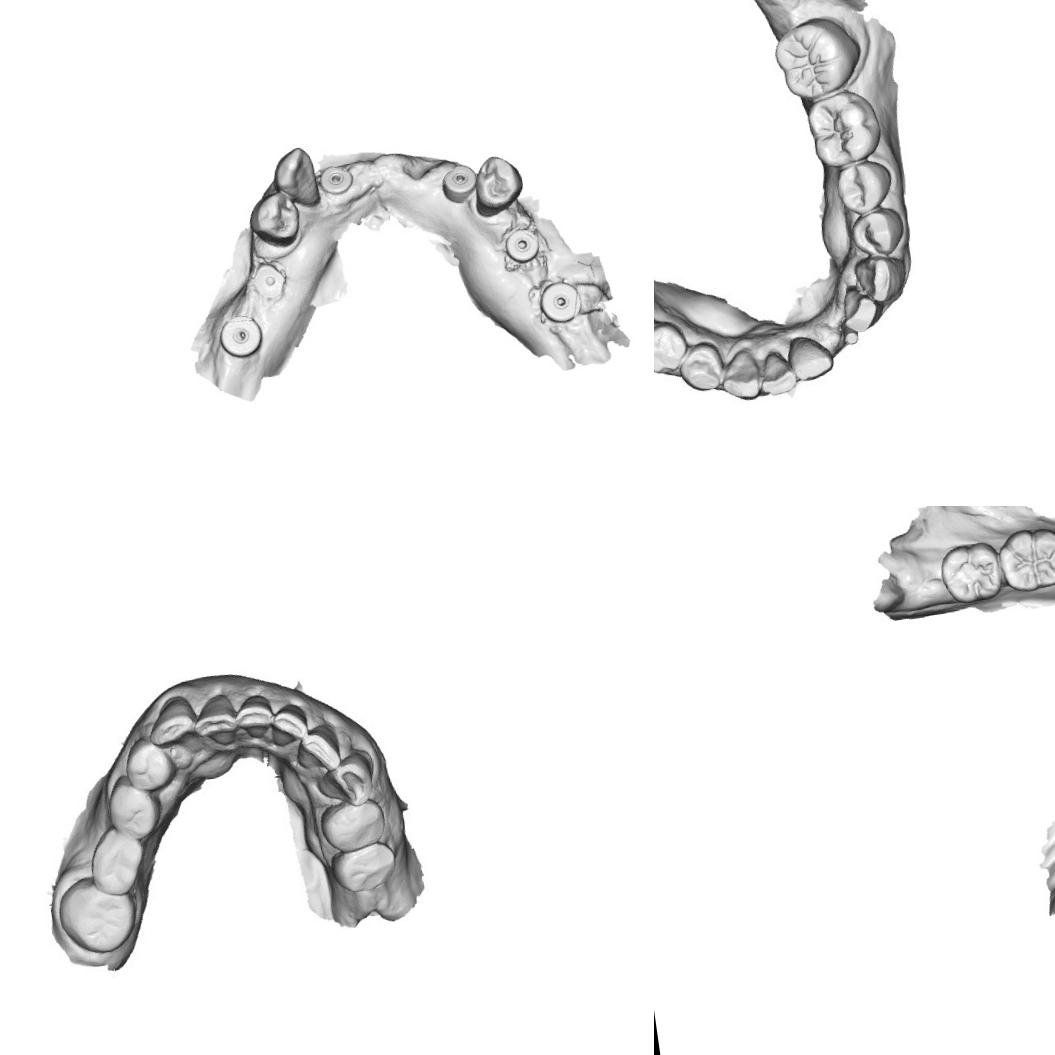abutment: (836, 324, 860, 349)
canine: (267, 141, 327, 212), (316, 751, 377, 811), (718, 345, 764, 405), (852, 249, 904, 302), (144, 695, 194, 748)
implant: (210, 308, 273, 366), (244, 253, 298, 310), (533, 274, 586, 328), (498, 219, 548, 268), (316, 160, 362, 202), (439, 162, 476, 202)
incisor: (190, 692, 240, 746), (292, 728, 340, 773), (842, 286, 884, 337), (756, 351, 798, 395), (232, 692, 272, 738), (788, 336, 831, 378), (272, 706, 311, 745)
molar: (773, 16, 862, 99), (55, 877, 140, 960), (804, 92, 886, 168), (935, 538, 1007, 610), (992, 523, 1055, 598), (86, 829, 148, 898)
premolar: (244, 185, 305, 253), (469, 150, 528, 216), (331, 840, 399, 897), (318, 798, 386, 854), (109, 774, 161, 838), (836, 160, 889, 214), (850, 208, 902, 258), (126, 741, 170, 789), (654, 319, 689, 375), (684, 347, 722, 391)
